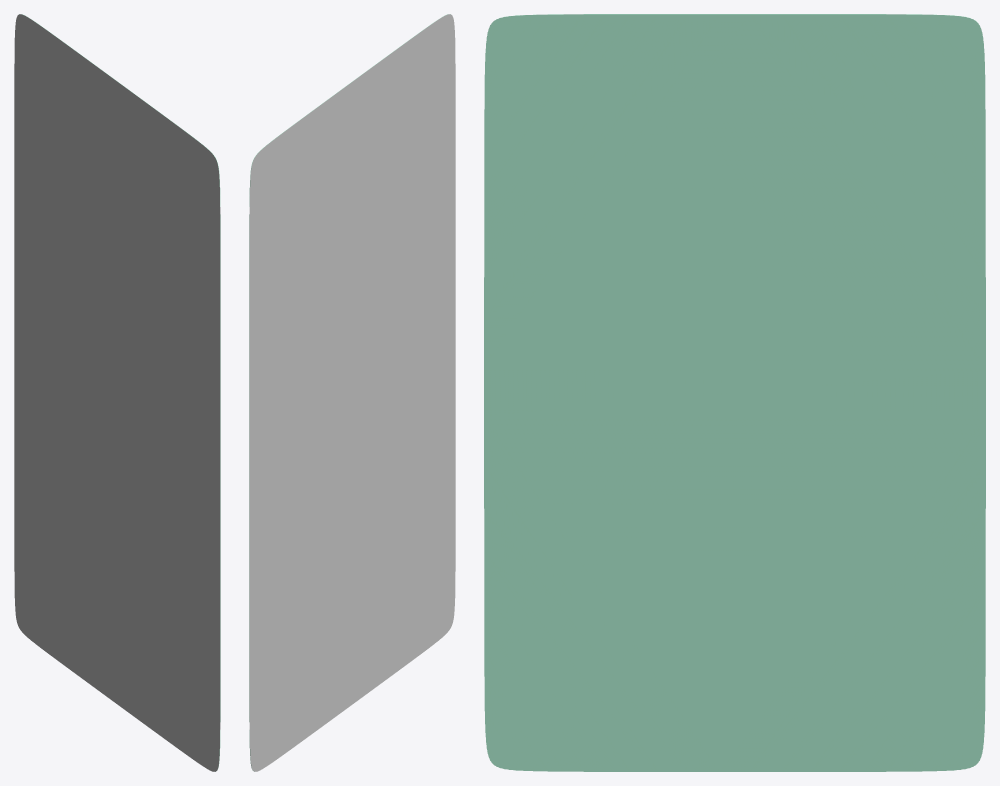
Rendered from card_float.dae.
The picture shows the model from 3 angles, left to right: view 1: azimuth 30°, elevation 25°; view 2: azimuth 150°, elevation 25°; view 3: azimuth 270°, elevation 25°; orthographic projection. The views are drawn at different scales.
Visible parts, largest first — view 1: Плоскость; view 2: Плоскость; view 3: Плоскость.
Part boxes in pixels (x1=…): Плоскость: x1=14, y1=14, x2=220, y2=771; Плоскость: x1=249, y1=14, x2=455, y2=771; Плоскость: x1=484, y1=14, x2=985, y2=771.
Bounding box in the file's own units: 0.001 × 1.2 × 2.
